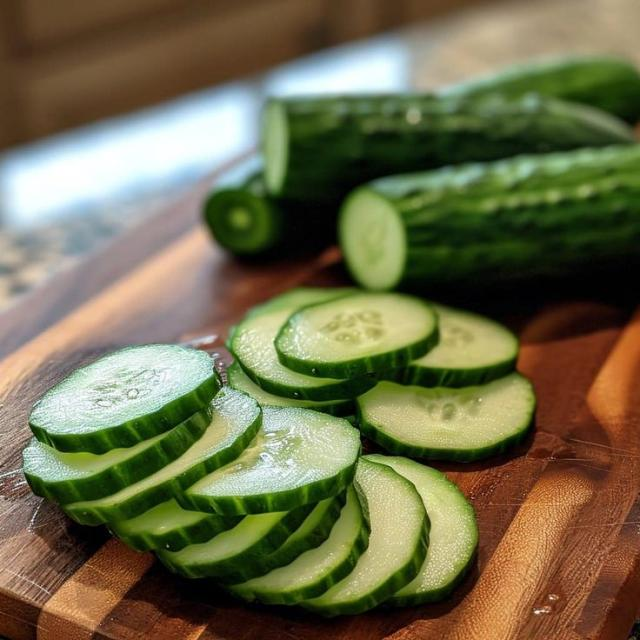cucumber sliced: (65, 387, 261, 524), (29, 345, 219, 453), (300, 459, 429, 615), (177, 407, 360, 514), (23, 410, 211, 503), (367, 454, 478, 606), (228, 486, 369, 604), (229, 288, 375, 400), (357, 374, 535, 461), (275, 293, 438, 378), (220, 493, 346, 584), (158, 505, 314, 577), (399, 304, 518, 387), (108, 500, 242, 551), (227, 362, 353, 416), (247, 287, 357, 316)
